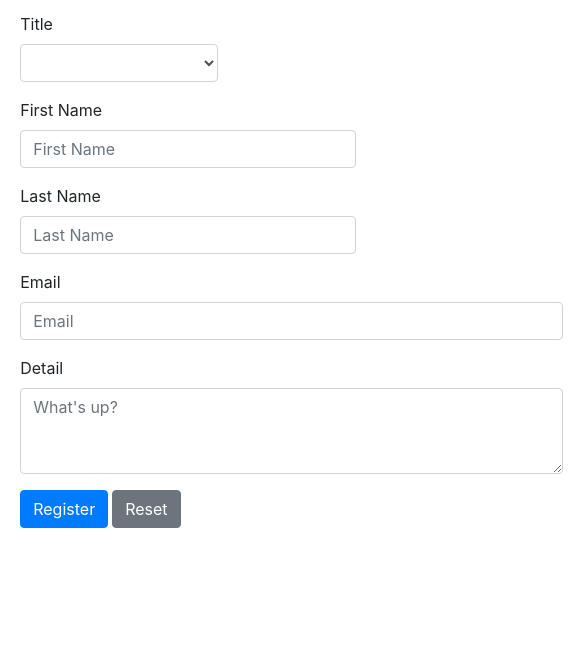
Test: when Contact Form  component is rendered › if button is clicked then Title, FirstName, LastName, Email, Detail text is required
Click the button "Register" at [64, 509], box [20, 490, 108, 528]
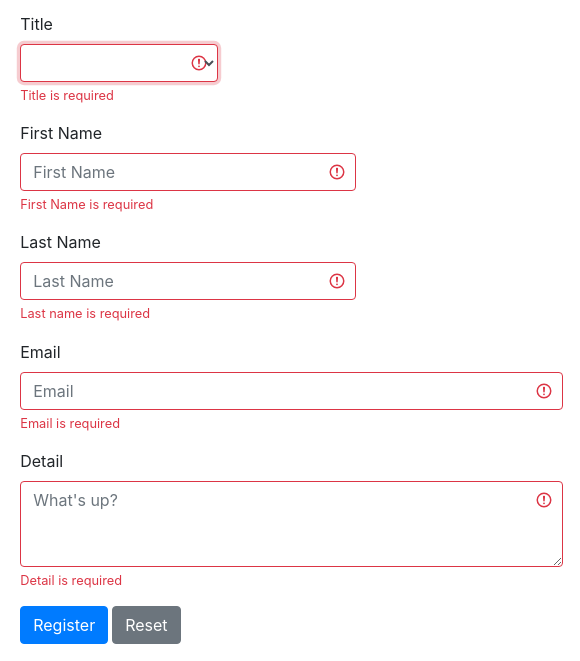
Check: the text "Title is required" is shown, box [20, 88, 114, 103]
Check: the text "First Name is required" is shown, box [20, 197, 153, 212]
Check: the text "Last name is required" is shown, box [20, 306, 150, 321]
